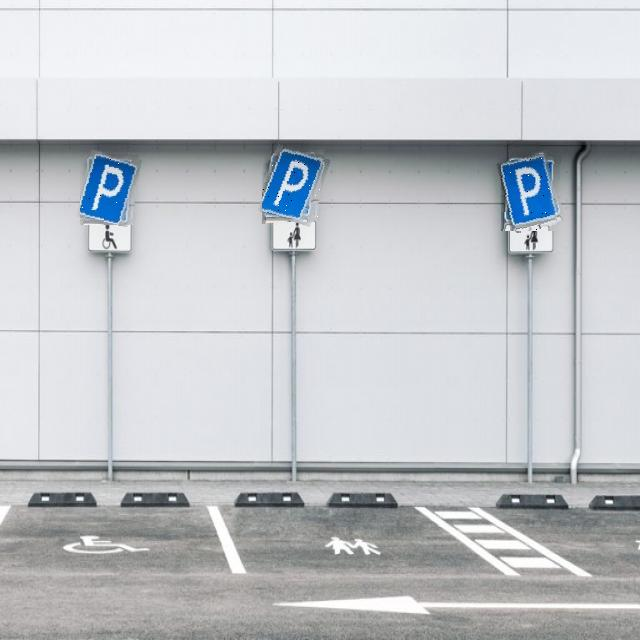parking: (262, 148, 325, 224), (501, 152, 561, 231), (80, 152, 139, 225)
